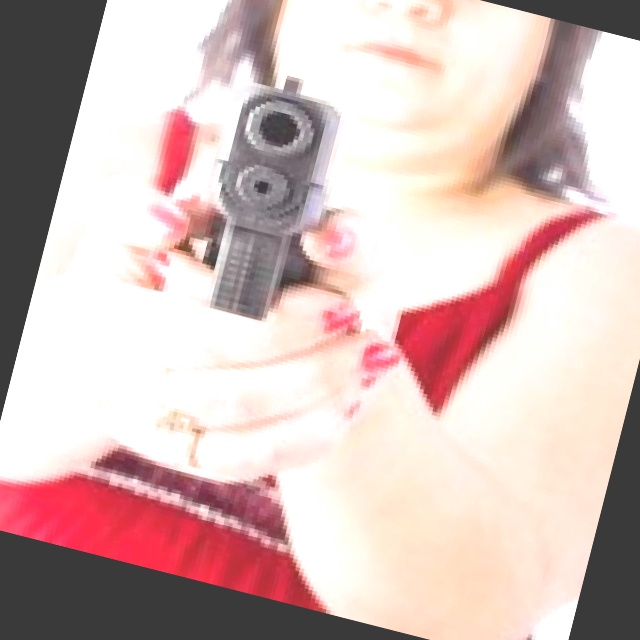gun: (73, 26, 409, 470)
